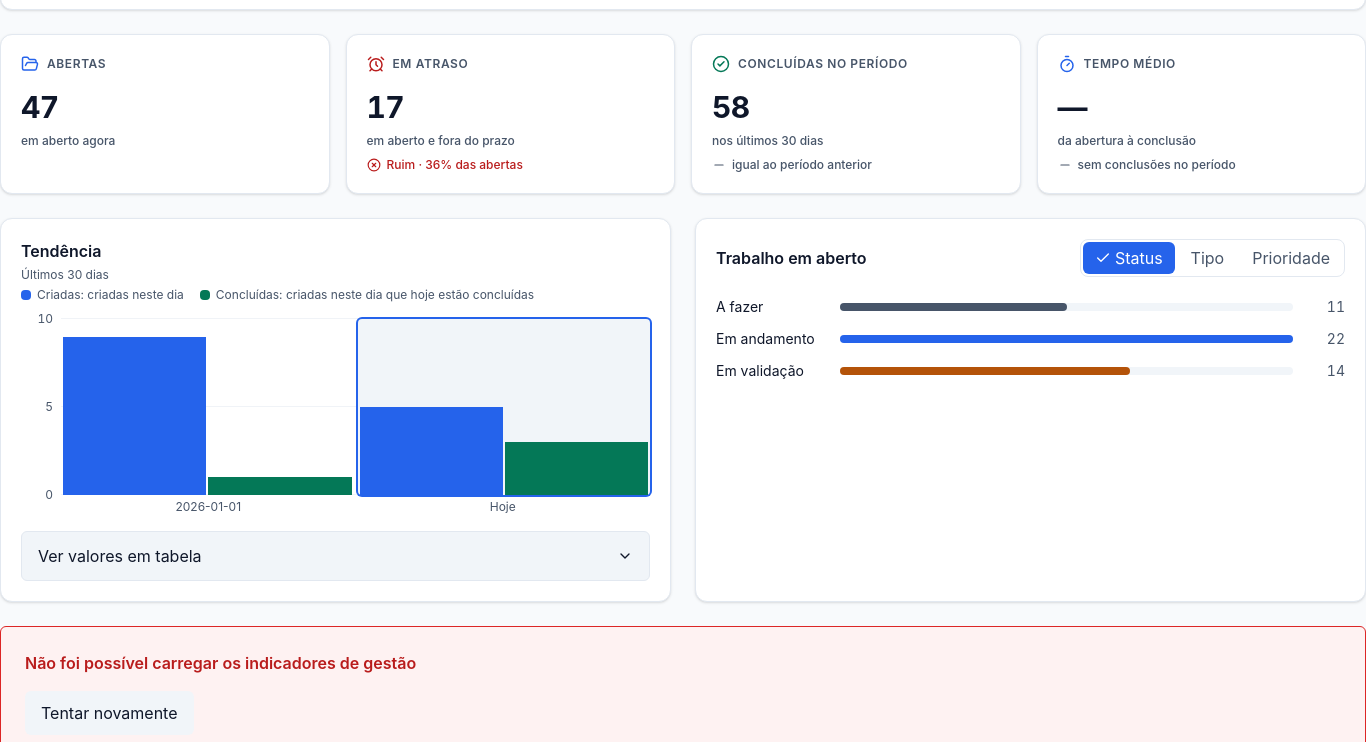
SolicitacoesTab — indicadores de gestão › deve pedir de novo quando Tentar novamente é acionado nos indicadores de gestão
The width and height of the screenshot is (1366, 742).
(page scrolled)
Expected: the heading "Não foi possível carregar os indicadores de gestão" is shown, [25,653,416,673]
Click the button "Tentar novamente" at (109, 713), box [25,691,194,735]
(page scrolled)
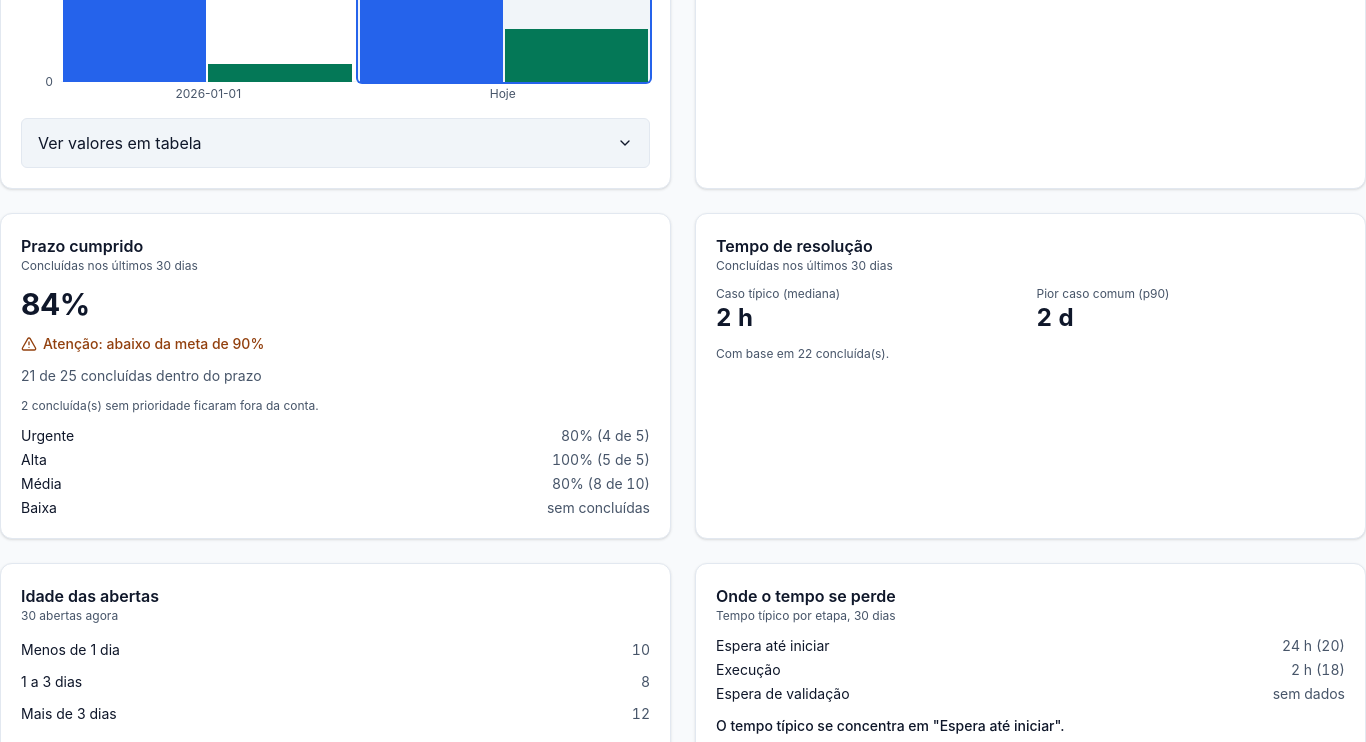
Expected: the element "Prazo cumprido" is shown, [0,213,671,539]
